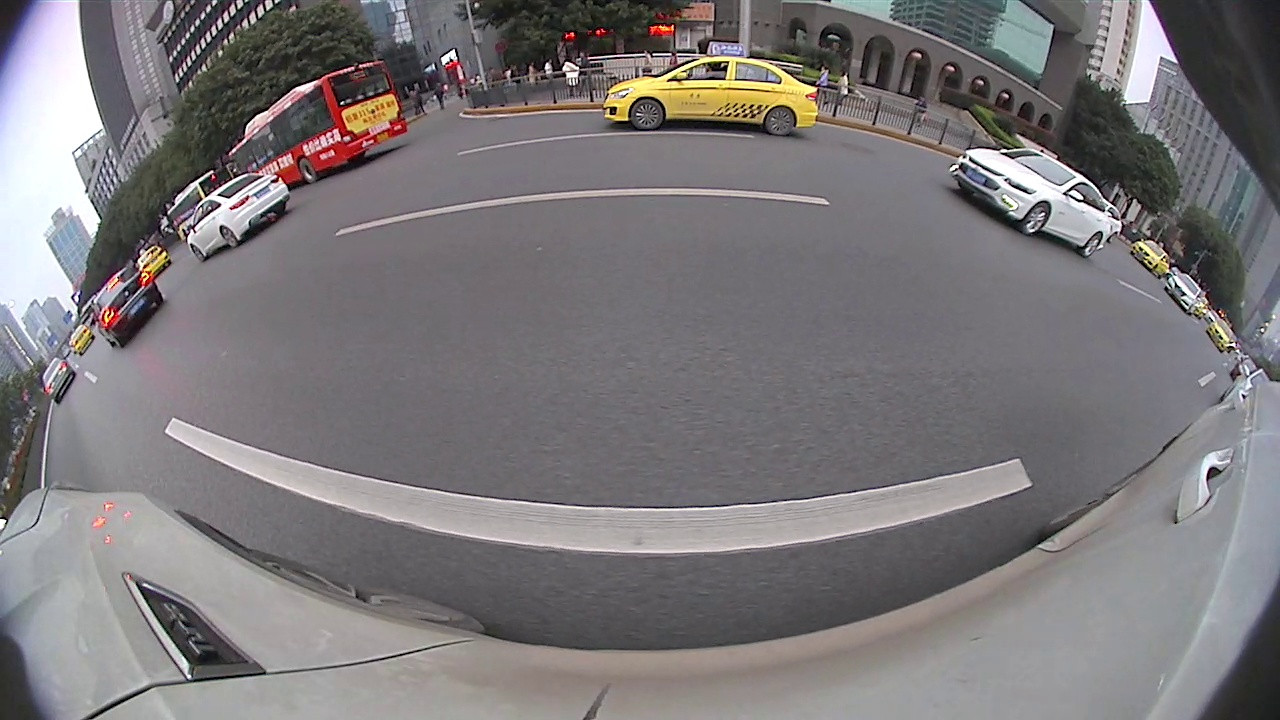bus: (227, 58, 411, 187), (164, 168, 226, 246)
car: (600, 55, 819, 138), (951, 146, 1109, 260), (185, 173, 290, 265), (88, 266, 166, 350), (32, 355, 76, 406), (1127, 236, 1170, 279), (1166, 271, 1204, 318)
front: (630, 101, 664, 128), (1024, 203, 1051, 235), (190, 245, 205, 261)
rear: (766, 110, 794, 135), (1083, 233, 1101, 257), (299, 157, 315, 181), (223, 227, 235, 247)
